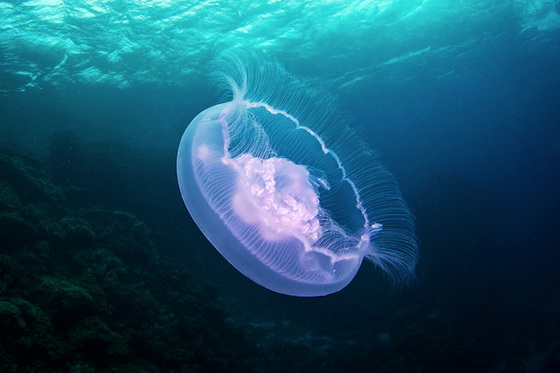jellyfish: (175, 53, 428, 306)
